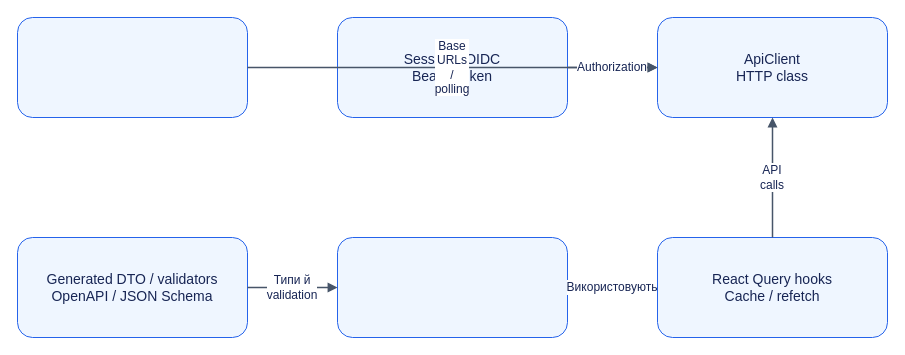
Some shapes in this 905 by 355 pixel diagram are drawn without their labels. The box of each missing label's shape, as (x1, y1, x2, y2) in pixels:
AdminConfig / AuthConfig TypeScript interface / union: (16, 16, 248, 118)
Pages / JobPanel Function components: (336, 236, 568, 338)
